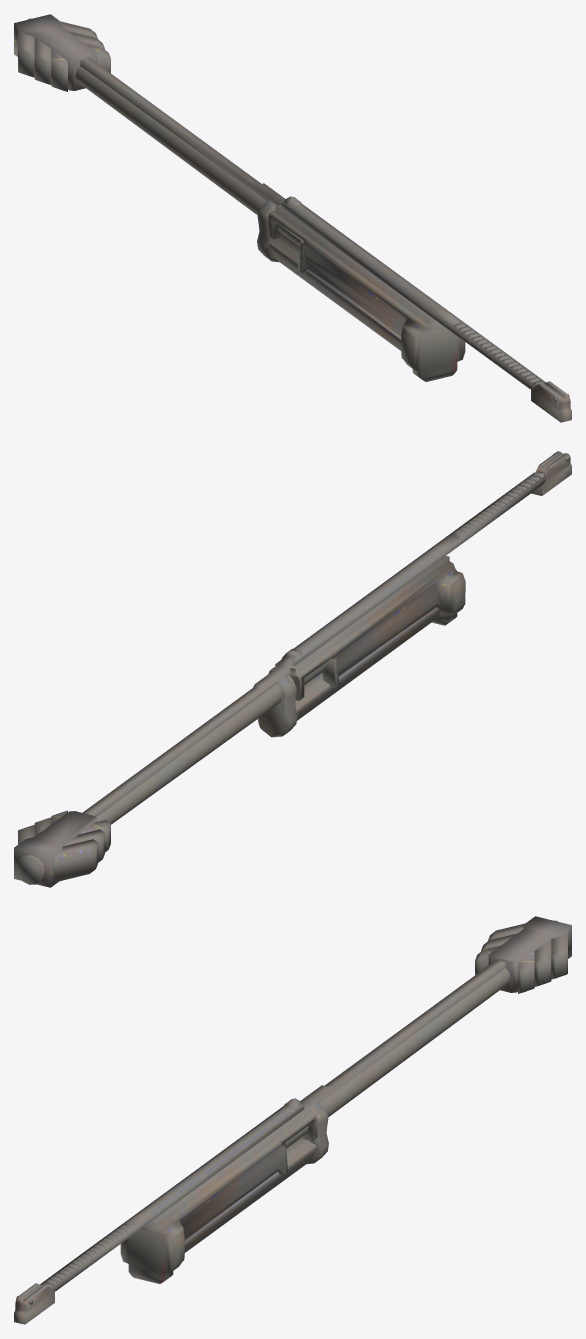
The model's file is barrel4.obj.
The picture shows the model from 3 angles, top to bottom: view 1: azimuth 30°, elevation 25°; view 2: azimuth 150°, elevation 25°; view 3: azimuth 330°, elevation 25°; orthographic projection.
Visible parts, largest first — view 1: barrel4; view 2: barrel4; view 3: barrel4.
Boxes of the visible parts, <box> form: barrel4: <box>14,14,571,422</box>; barrel4: <box>14,451,571,887</box>; barrel4: <box>14,916,571,1324</box>.
Bounding box in the file's own units: 10.57 × 9.76 × 128.
